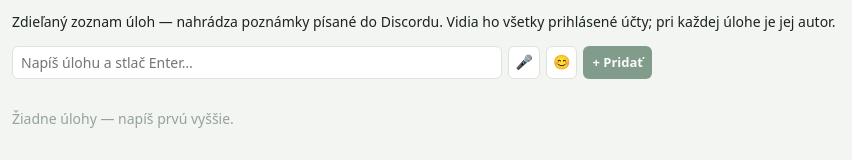
it: Enter v novom vstupe vytvorí úlohu a vyčistí pole, žiadny formulár/dialóg
Expected: the text "Žiadne úlohy — napíš prvú vyššie." is shown, [12,109,234,128]
Type "poslať DPD" into the field with test id "uloha-new-input" at (257, 62), box [12,46,502,79]
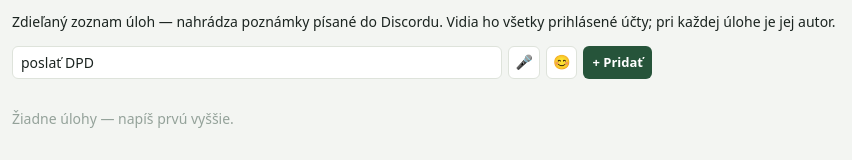
Press Enter in the field with test id "uloha-new-input", box [12,46,502,79]
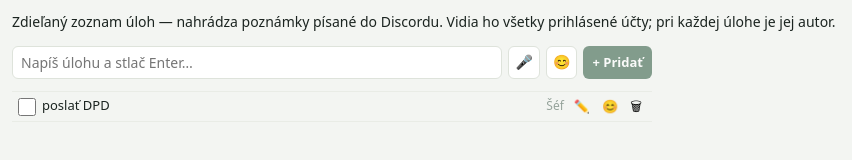
Result: the element with test id "uloha-row-task-a" is shown at [12,91,652,122]
Result: the field with test id "uloha-new-input" is empty at [12,46,502,79]
